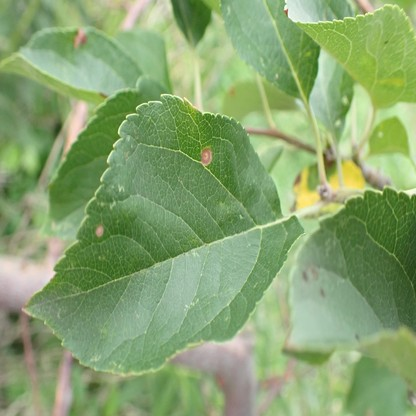frogeye: (74, 28, 88, 50), (200, 147, 212, 166), (96, 225, 104, 238)
